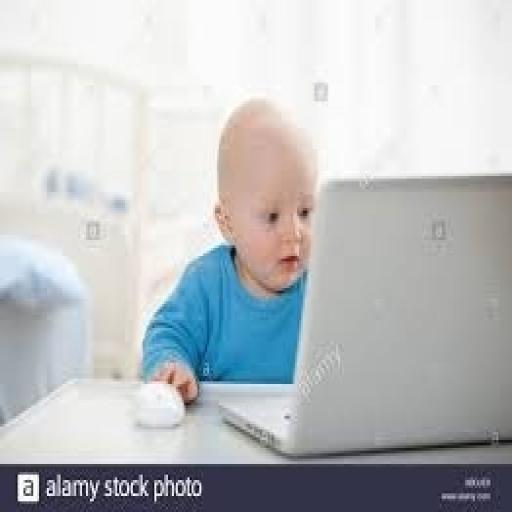using_laptop: (213, 170, 510, 458)
